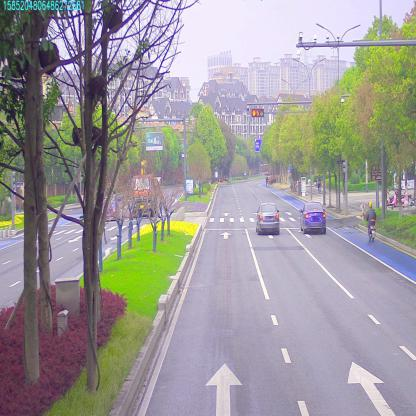traffic-light: (252, 109, 262, 116)
